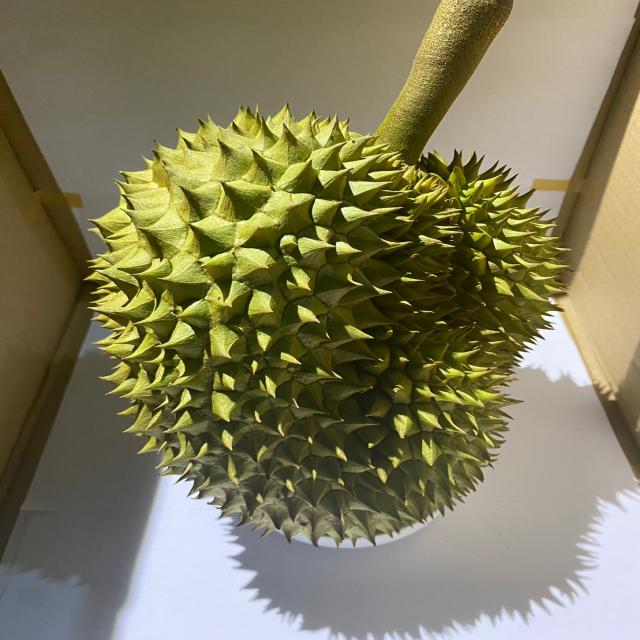immature: (82, 102, 572, 544)
